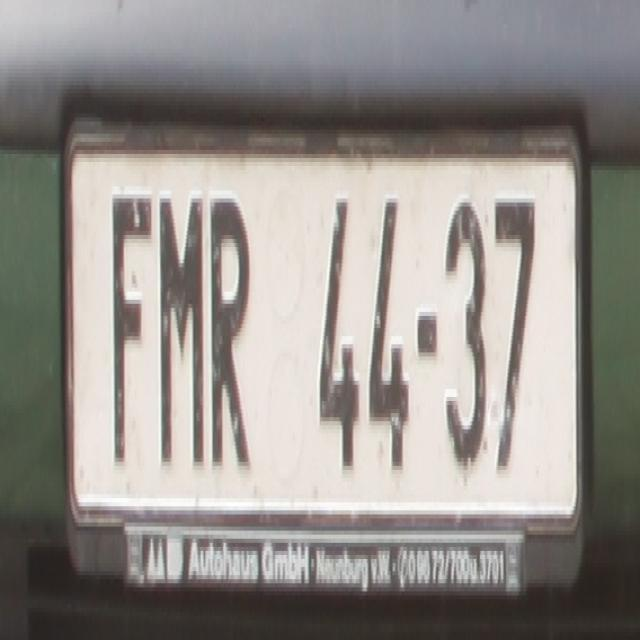3: (444, 190, 487, 466)
4: (315, 198, 363, 478), (368, 195, 411, 470)
7: (494, 195, 536, 470)
F: (108, 194, 151, 474)
M: (156, 194, 206, 478)
